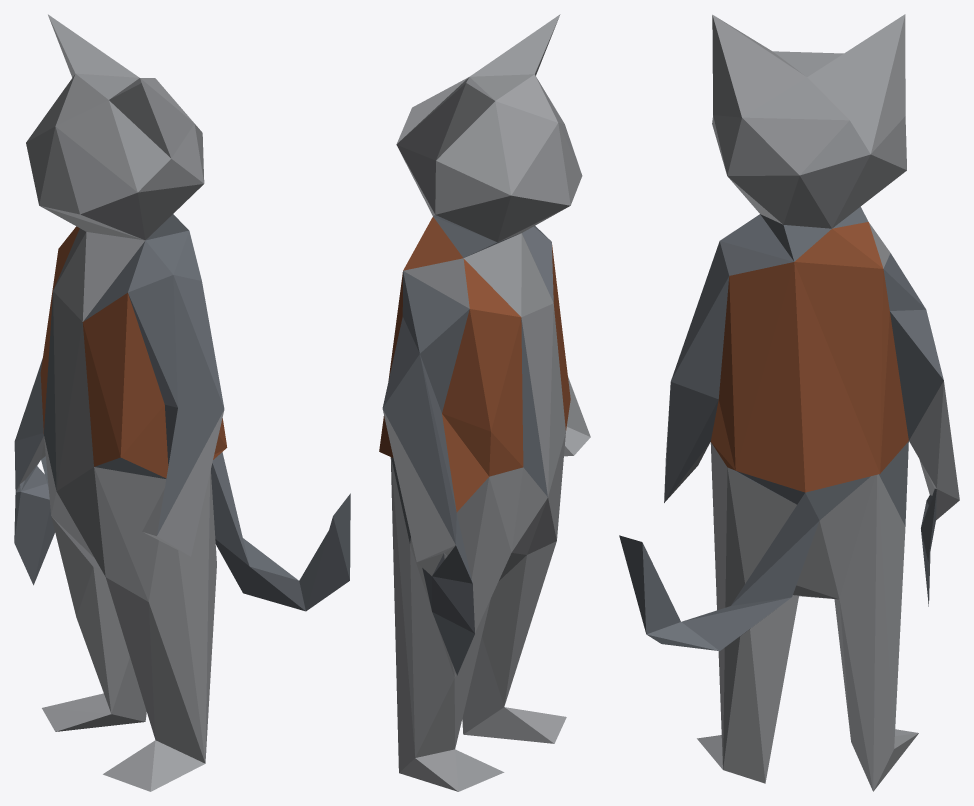
3 views of the same model, side by side, from view 1: azimuth 30°, elevation 25°; view 2: azimuth 150°, elevation 25°; view 3: azimuth 270°, elevation 25° (orthographic). The views are drawn at different scales.
Parts seen in each view (by area): view 1: lion-200; view 2: lion-200; view 3: lion-200.
Boxes of the visible parts, x1,y1,x2,y2 form: lion-200: (14, 14, 350, 791); lion-200: (379, 14, 590, 791); lion-200: (619, 14, 959, 791).
Size of the model in its own units: 0.3422 by 1.01 by 0.4225.
